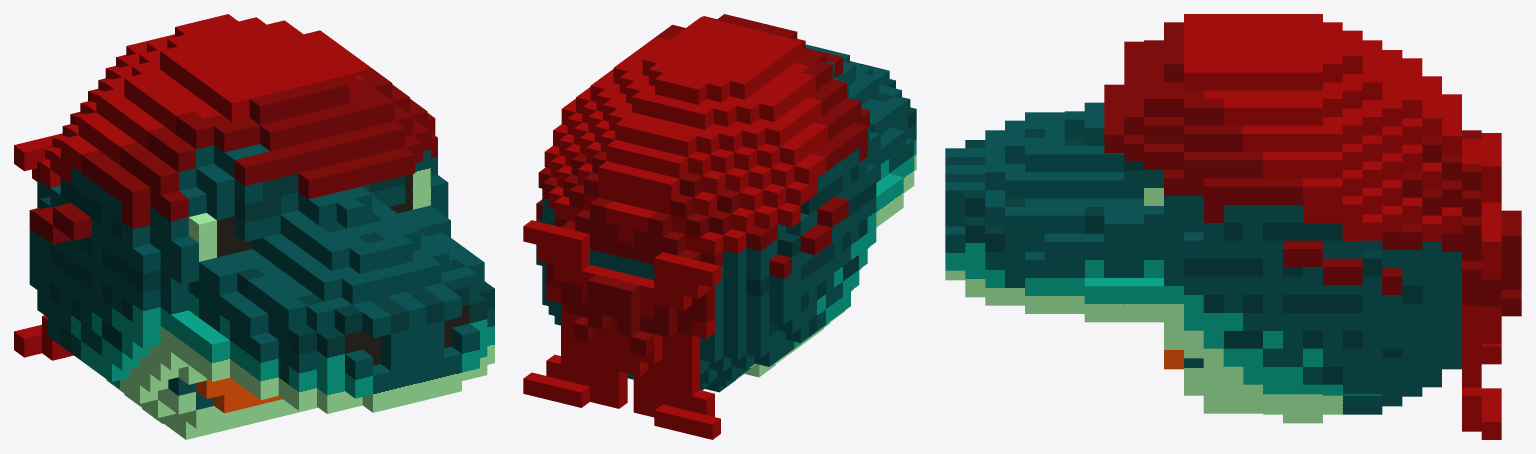
The model's file is red durag_eye patch.gltf.
The picture shows the model from 3 angles, left to right: view 1: azimuth 30°, elevation 25°; view 2: azimuth 150°, elevation 25°; view 3: azimuth 270°, elevation 25°; orthographic projection. The views are drawn at different scales.
Parts seen in each view (by area): view 1: C17_H_redDurag_EyePatch-Mesh; view 2: C17_H_redDurag_EyePatch-Mesh; view 3: C17_H_redDurag_EyePatch-Mesh.
Part boxes in pixels (left/top/right/bottom): C17_H_redDurag_EyePatch-Mesh: left=14, top=14, right=494, bottom=439; C17_H_redDurag_EyePatch-Mesh: left=523, top=14, right=916, bottom=439; C17_H_redDurag_EyePatch-Mesh: left=945, top=14, right=1521, bottom=439.
Size of the model in its own units: 19 by 19 by 29.
Materials: 1 (1 with a texture image).
